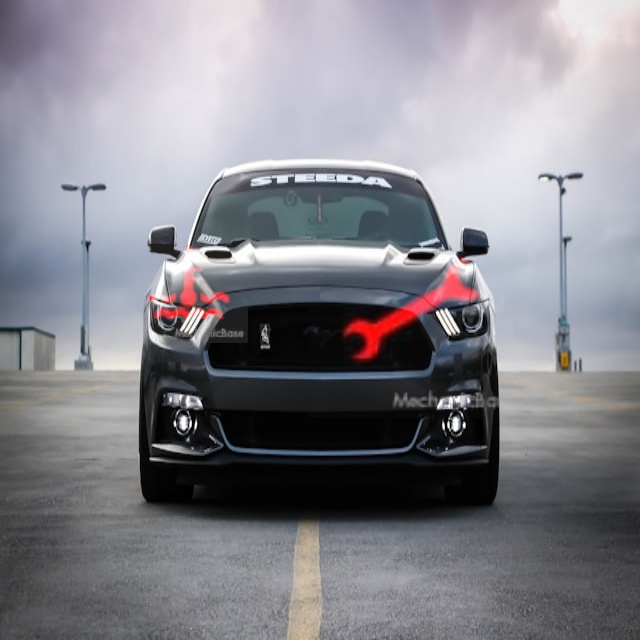symbol: (309, 204, 523, 418), (128, 223, 248, 343)
